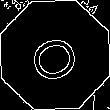O_NE: (23, 25, 87, 85)
